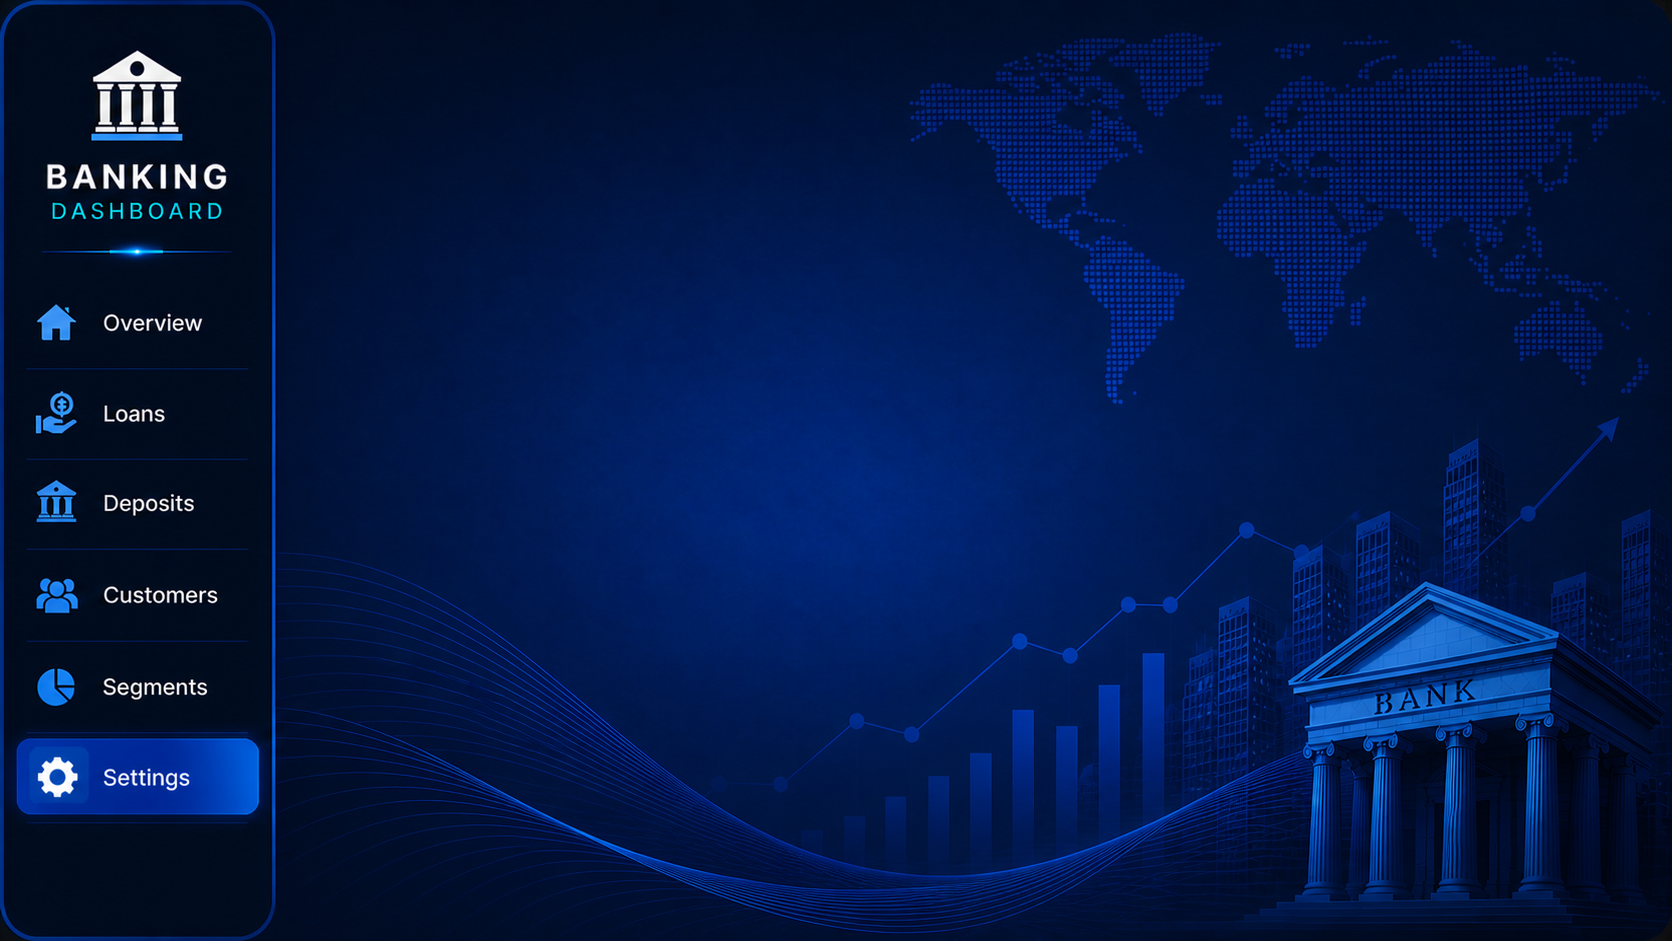

What the dashboard file says about the page in this screenshot:
{"tool":"powerbi","page":{"name":"Settings","canvas":[1280,720],"ordinal":5},"visuals":[{"type":"textbox","box":[216,18.1,1047.2,51.9],"z":0},{"type":"shape","box":[206.3,60.3,1073.7,36.2],"z":1},{"type":"textbox","box":[570.6,96.5,307.6,41],"z":2},{"type":"slicer","fields":{"Values":["Banking c.Income_Band"]},"box":[225.6,147.2,208.7,100.1],"z":3},{"type":"slicer","fields":{"Values":["Banking c.Gender"]},"box":[494.6,147.2,208.7,100.1],"z":4},{"type":"slicer","fields":{"Values":["Banking c.Segment"]},"box":[763.7,148.4,208.7,100.1],"z":5},{"type":"slicer","fields":{"Values":["Banking c.Age_Group"]},"box":[1038.7,148.4,208.7,100.1],"z":6},{"type":"slicer","fields":{"Values":["Banking c.Joined_Bank"]},"box":[538.1,271.4,300.4,159.3],"z":7},{"type":"textbox","box":[539.8,453.6,299.1,50.1],"z":8},{"type":"actionButton","box":[585.7,453.6,167,40.3],"z":9},{"type":"shape","box":[206.3,486.2,1073.7,36.2],"z":10},{"type":"textbox","box":[507.9,513.9,361.9,197.9],"z":11},{"type":"actionButton","box":[15.7,290.8,171.3,51.9],"z":12},{"type":"actionButton","box":[15.7,359.5,171.3,49.5],"z":13},{"type":"actionButton","box":[25.3,430.7,171.3,55.5],"z":14},{"type":"actionButton","box":[15.7,504.3,171.3,51.9],"z":15},{"type":"actionButton","box":[25.3,219.6,144.8,51.9],"z":16}]}

Visuals, with their boxes in screenshot pixels (x1, y1, x2, y2), scaled from the page's 1280x720 canvas onto the 1672x941 screenshot:
textbox: Rect(282, 24, 1650, 91)
shape: Rect(269, 79, 1671, 126)
textbox: Rect(745, 126, 1147, 180)
slicer - Banking c.Income_Band: Rect(295, 192, 567, 323)
slicer - Banking c.Gender: Rect(646, 192, 919, 323)
slicer - Banking c.Segment: Rect(998, 194, 1270, 325)
slicer - Banking c.Age_Group: Rect(1357, 194, 1629, 325)
slicer - Banking c.Joined_Bank: Rect(703, 355, 1095, 563)
textbox: Rect(705, 593, 1096, 658)
actionButton: Rect(765, 593, 983, 645)
shape: Rect(269, 635, 1671, 683)
textbox: Rect(663, 672, 1136, 930)
actionButton: Rect(21, 380, 244, 448)
actionButton: Rect(21, 470, 244, 535)
actionButton: Rect(33, 563, 257, 635)
actionButton: Rect(21, 659, 244, 727)
actionButton: Rect(33, 287, 222, 355)
